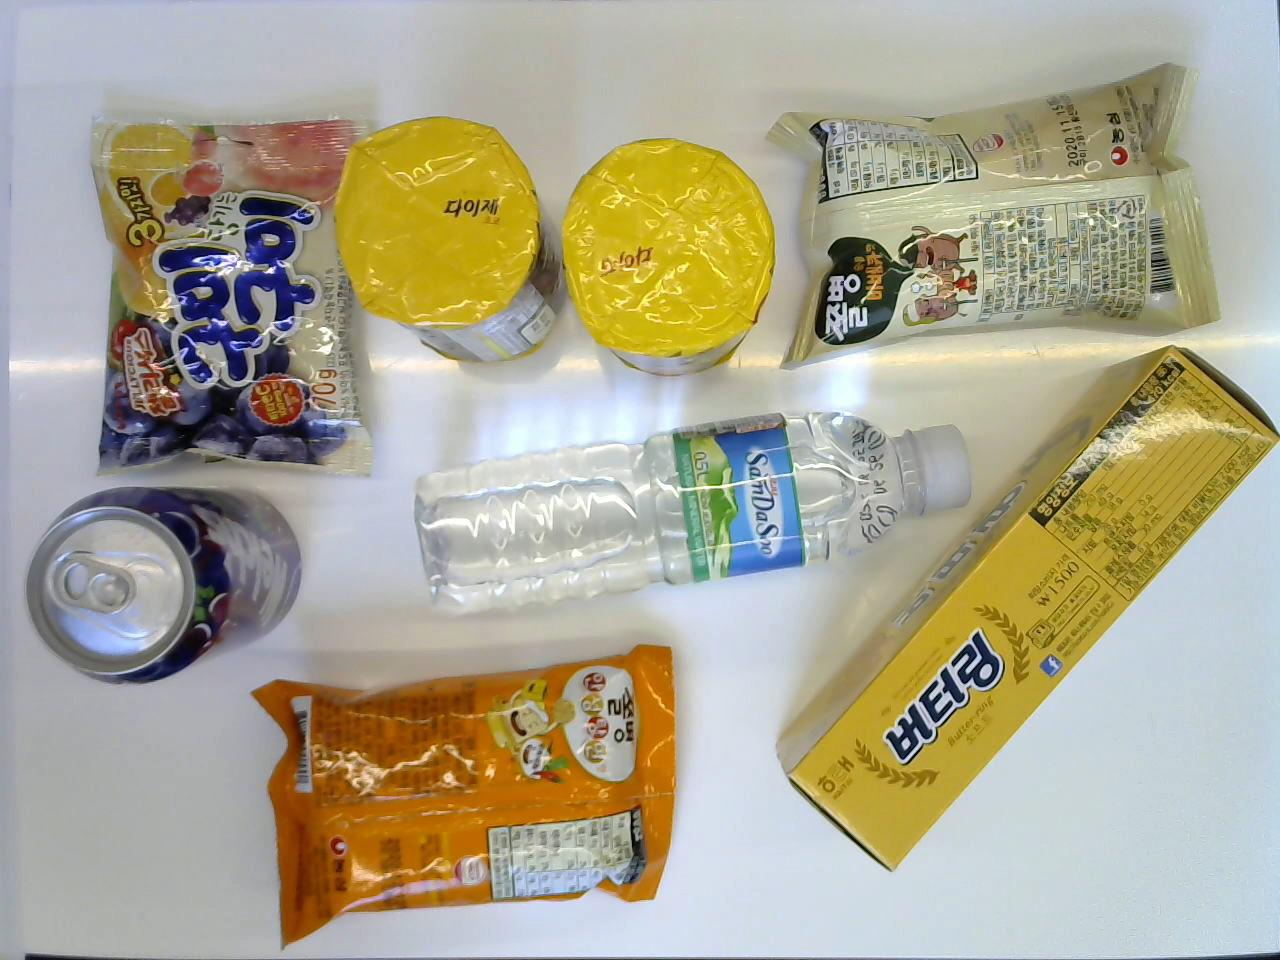buttering: (774, 344, 1274, 874)
diget_choco: (332, 111, 573, 370)
diget_ori: (555, 130, 775, 381)
gumi_gumi: (81, 107, 387, 478)
jjolbyung_noodle: (246, 644, 684, 949)
jjolbyung_ori: (762, 63, 1225, 368)
samdasu: (418, 406, 972, 626)
welchs: (26, 481, 306, 687)
